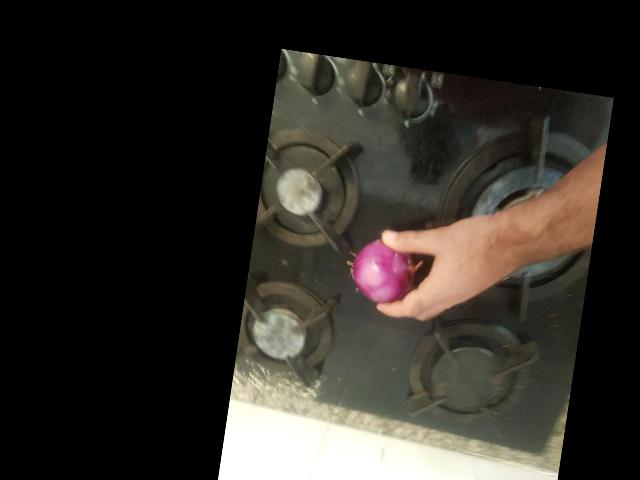onion: (292, 335, 357, 398)
